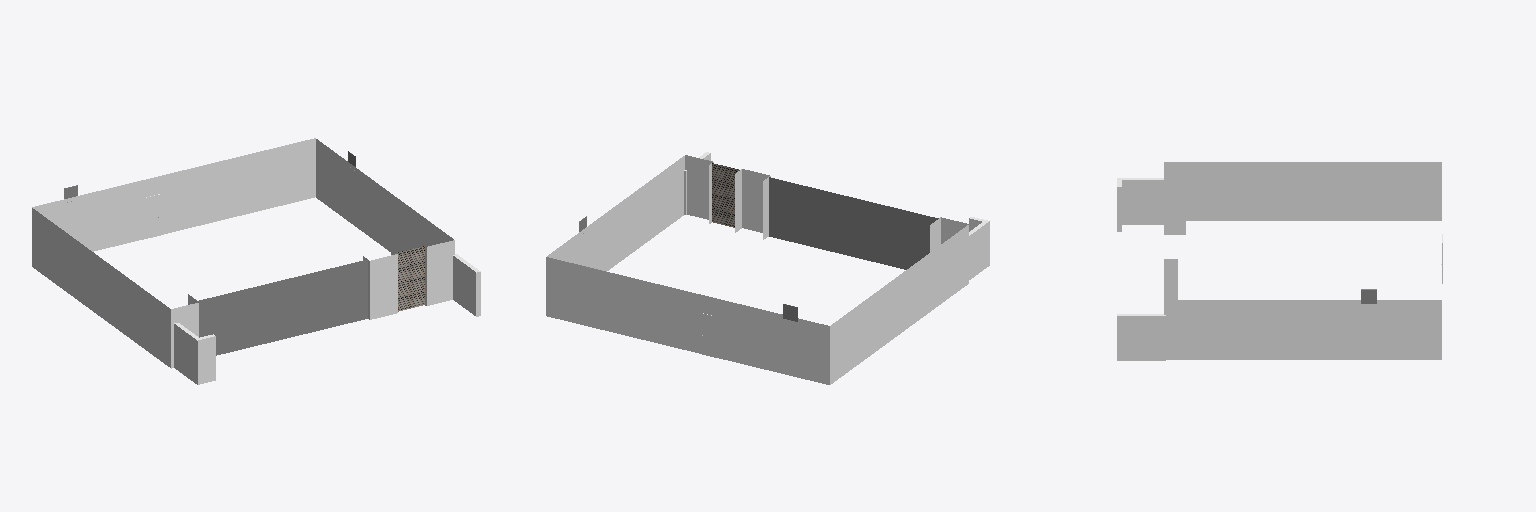
3 renders of one model, left to right at view 1: azimuth 30°, elevation 25°; view 2: azimuth 150°, elevation 25°; view 3: azimuth 270°, elevation 25°, orthographic.
Visible parts, largest first — view 1: 1F; view 2: 1F; view 3: 1F.
Boxes of the visible parts, x1,y1,x2,y2 form: 1F: [32, 138, 480, 384]; 1F: [546, 152, 989, 384]; 1F: [1117, 162, 1442, 360].
Bounding box in the file's own units: 20.16 × 4.74 × 19.93.
Materials: 5 (1 with a texture image).